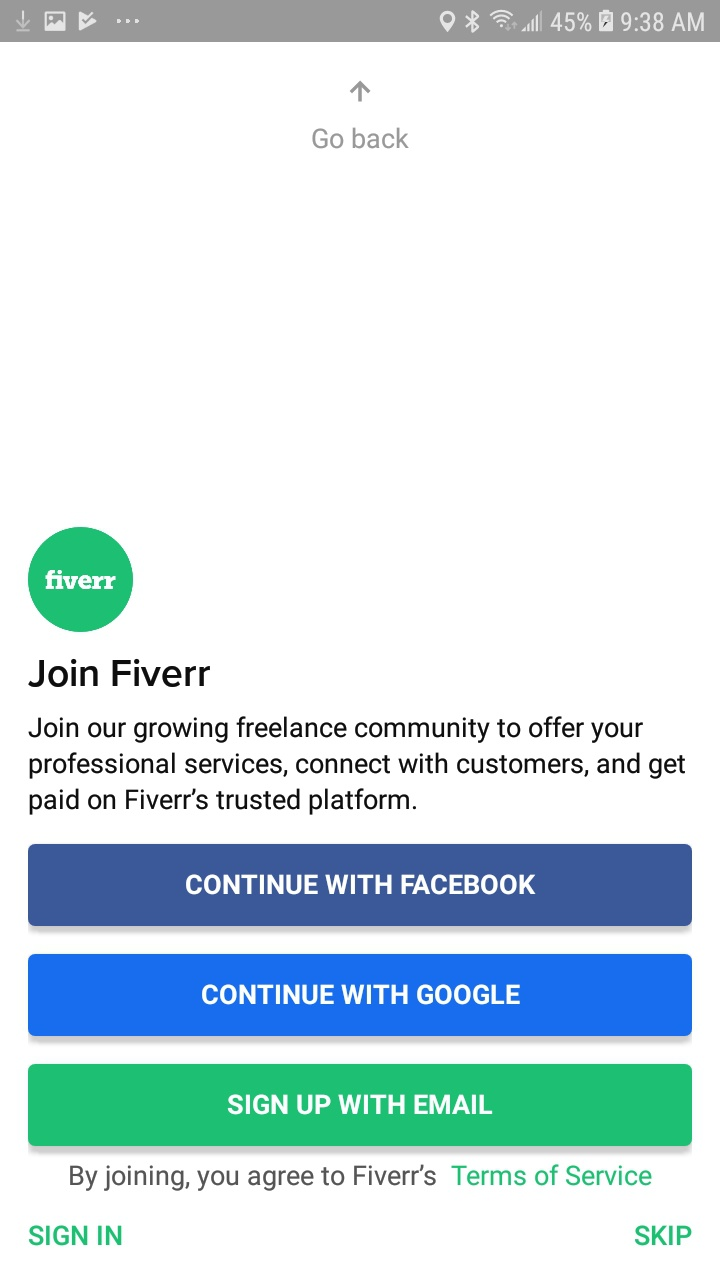Icon: (349, 81, 371, 103)
Image: (28, 527, 134, 633)
Text: (28, 715, 686, 816), (71, 1165, 653, 1192), (28, 658, 211, 688), (312, 127, 410, 150), (29, 1225, 123, 1247), (635, 1224, 692, 1246)
TextButton: (27, 844, 693, 927), (29, 954, 693, 1037), (29, 1064, 693, 1147)
UpperTaskBar: (1, 1, 720, 43)
